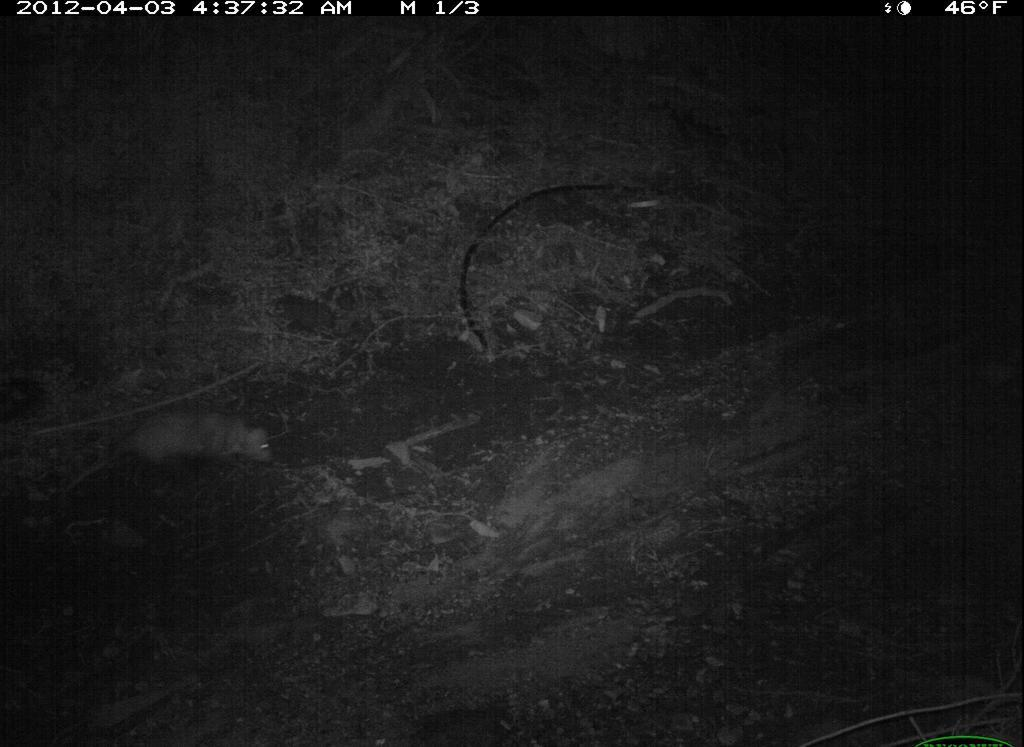opossum: (52, 400, 283, 507)
